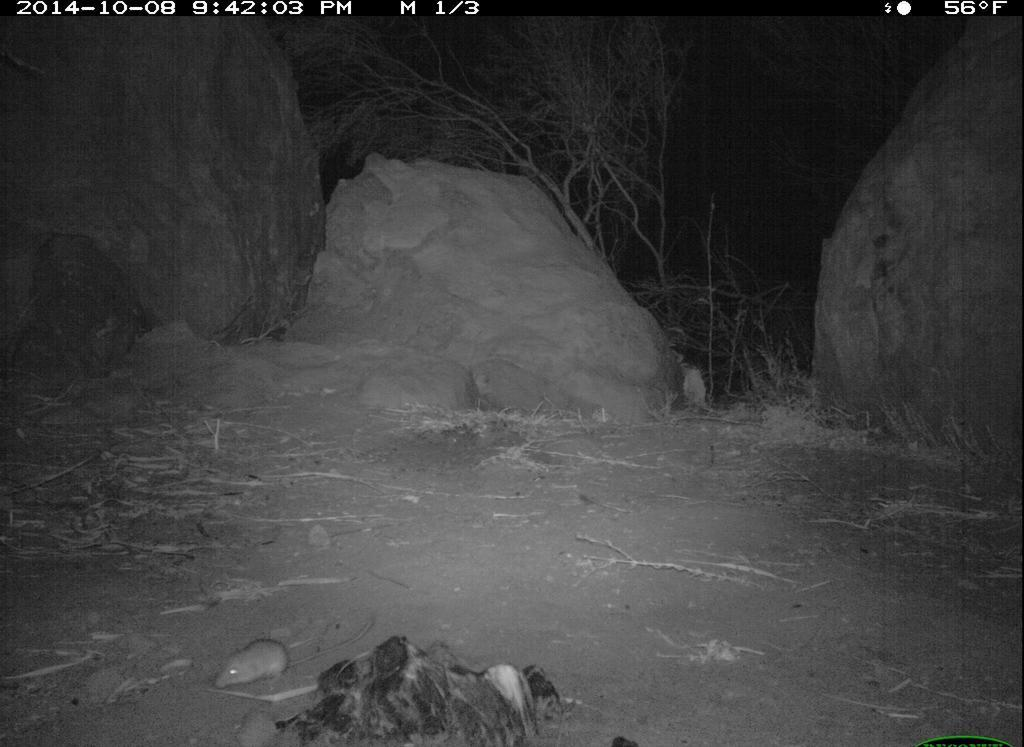rodent: (199, 629, 351, 690)
